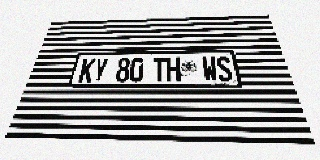0: (129, 58, 144, 82)
8: (115, 58, 131, 82)
H: (167, 57, 181, 82)
K: (78, 58, 96, 82)
S: (215, 56, 234, 82)
T: (152, 57, 166, 82)
W: (201, 56, 218, 82)
Y: (91, 58, 109, 82)
